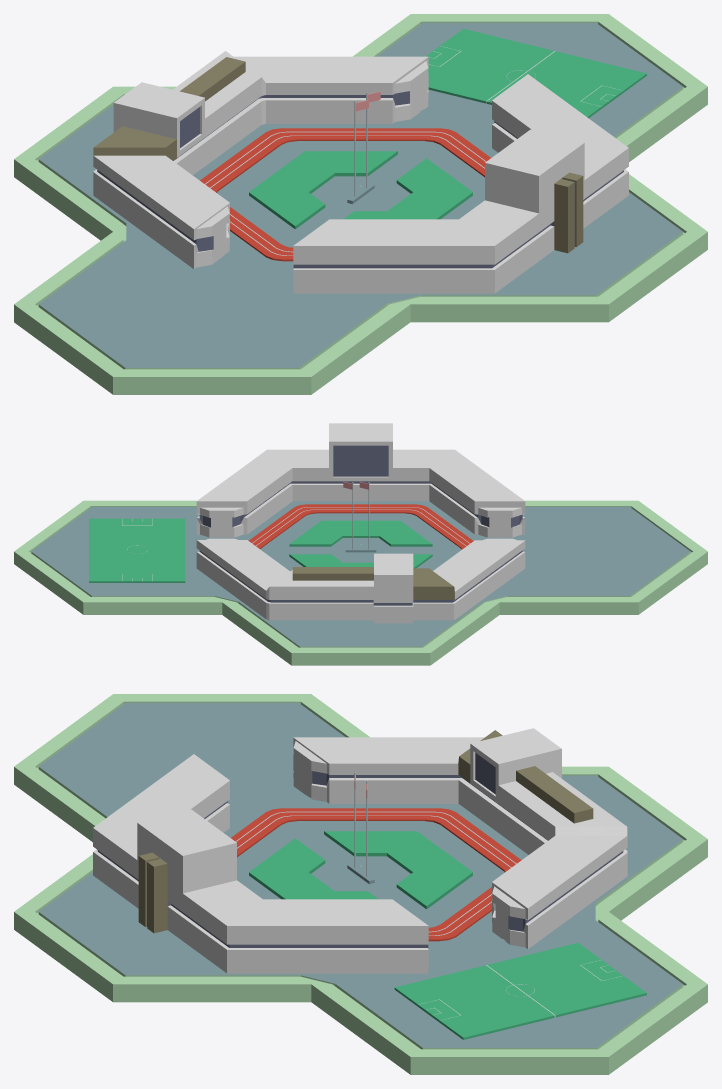
Rendered from npc_school.fbx.
3 views of the same model, one above another, from view 1: azimuth 30°, elevation 25°; view 2: azimuth 150°, elevation 25°; view 3: azimuth 270°, elevation 25° (orthographic). The views are drawn at different scales.
Visible parts, largest first — view 1: 立方体.010; view 2: 立方体.010; view 3: 立方体.010.
Boxes of the visible parts, x1=… form: 立方体.010: x1=14, y1=14, x2=707, y2=394; 立方体.010: x1=14, y1=423, x2=707, y2=665; 立方体.010: x1=14, y1=694, x2=707, y2=1074.
Size of the model in its own units: 433 by 65.05 by 350.
